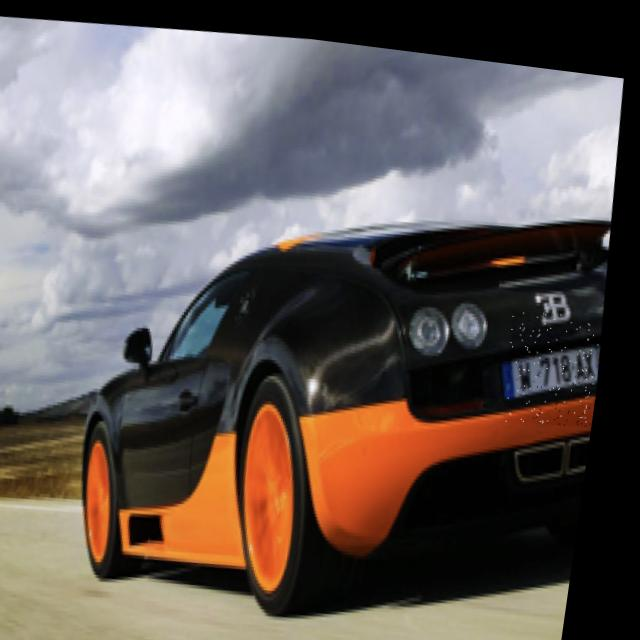license_plate: (508, 291, 614, 416)
